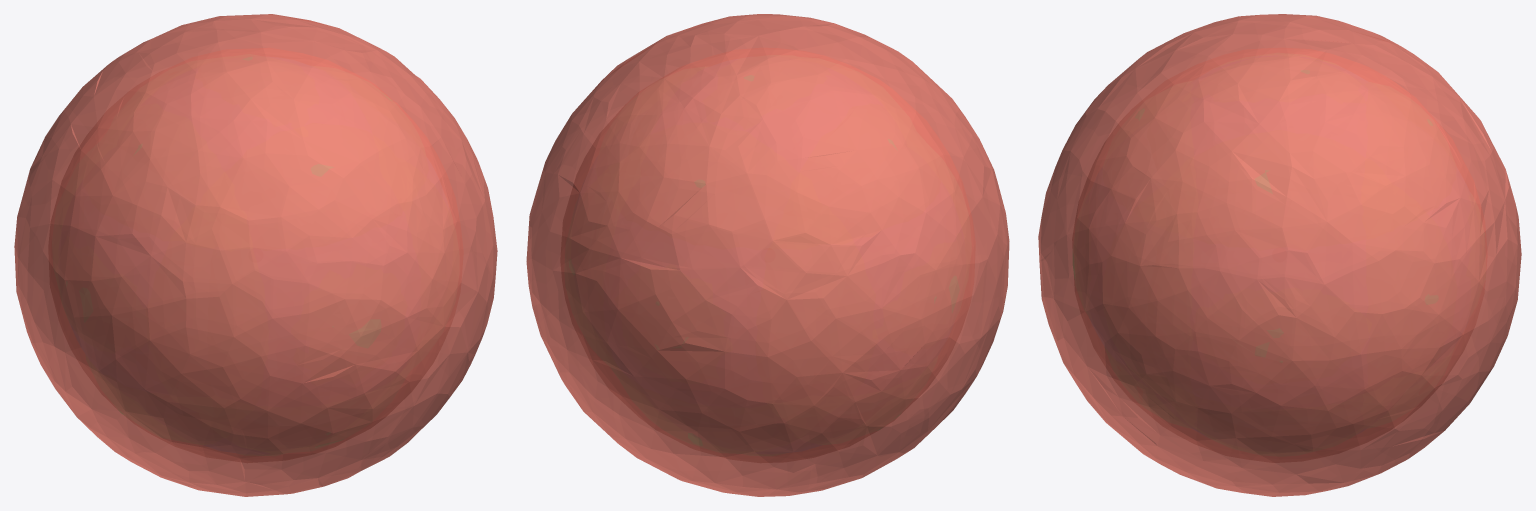
File: orbital.glb
3 renders of one model, left to right at view 1: azimuth 30°, elevation 25°; view 2: azimuth 150°, elevation 25°; view 3: azimuth 270°, elevation 25°, orthographic.
Visible parts, largest first — view 1: Bh_n7_s_ml0_node, Bh_n6_s_ml0_node; view 2: Bh_n7_s_ml0_node, Bh_n6_s_ml0_node; view 3: Bh_n7_s_ml0_node, Bh_n6_s_ml0_node.
Boxes of the visible parts, x1,y1,x2,y2 form: Bh_n7_s_ml0_node: [14, 14, 497, 496]; Bh_n6_s_ml0_node: [48, 48, 463, 462]; Bh_n7_s_ml0_node: [526, 14, 1009, 496]; Bh_n6_s_ml0_node: [560, 48, 975, 462]; Bh_n7_s_ml0_node: [1038, 14, 1521, 496]; Bh_n6_s_ml0_node: [1072, 48, 1487, 462].
Size of the model in its own units: 3.55 by 3.56 by 3.55.
